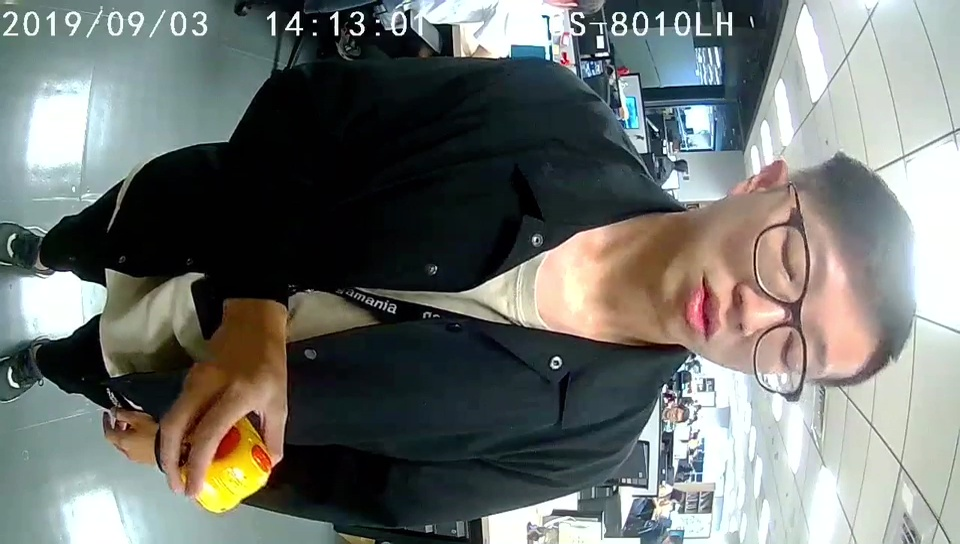car: (200, 415, 272, 513)
